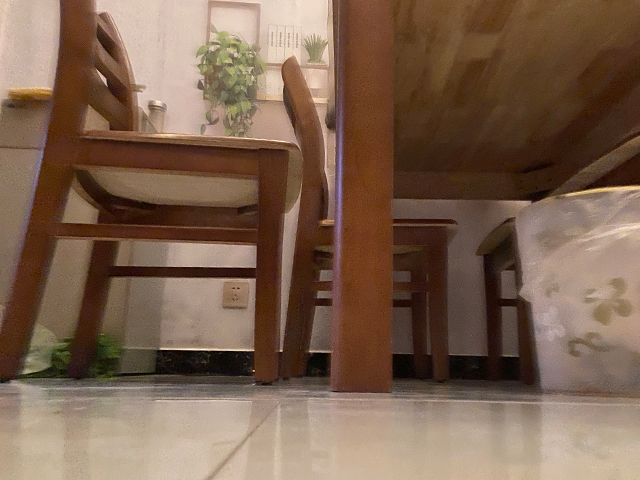stool: (1, 1, 460, 387)
table: (323, 1, 640, 394)
trashcan: (513, 183, 640, 401)
